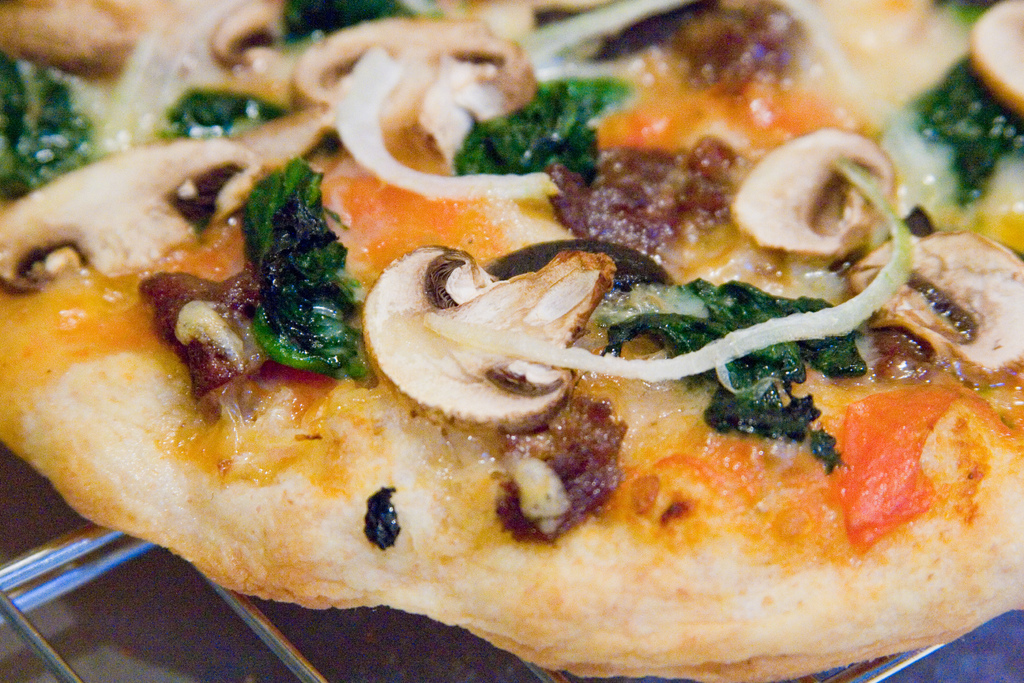Pizza: (0, 0, 1020, 682)
